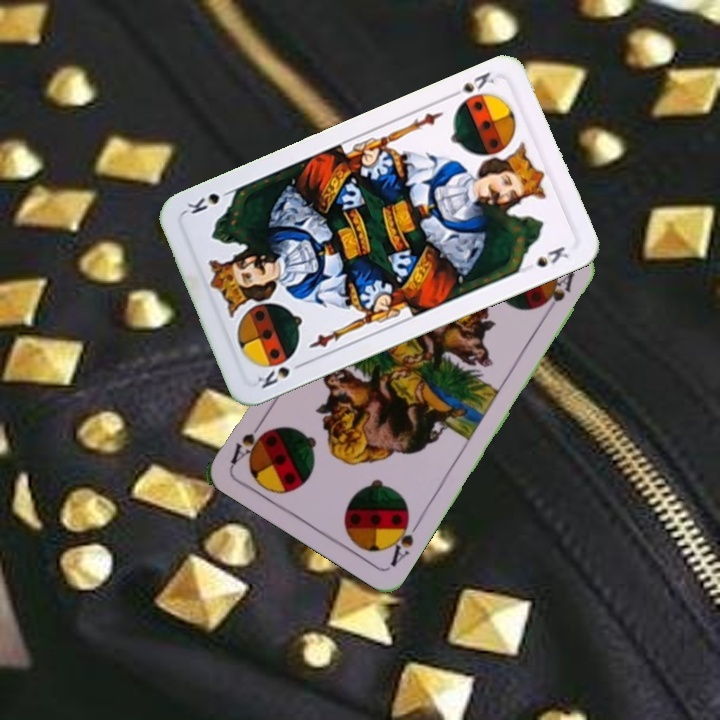SA: (383, 510, 424, 570)
SK: (253, 358, 308, 392), (445, 68, 497, 101)
